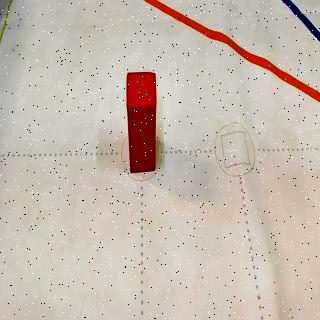redbox: (125, 70, 158, 174)
